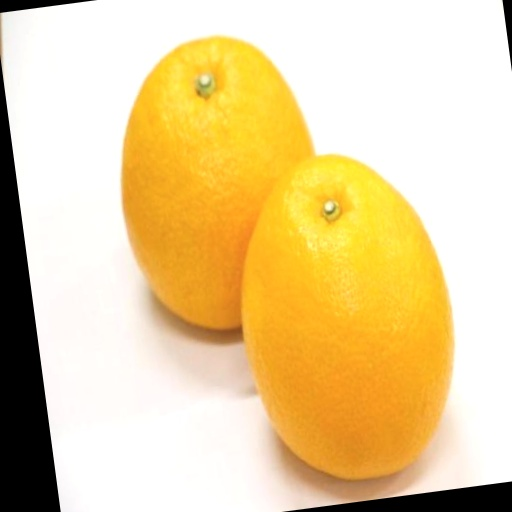fruit: (242, 155, 453, 479), (122, 37, 313, 328)
